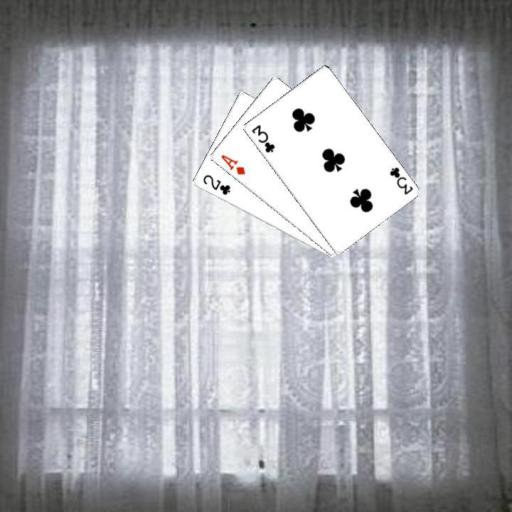2C: (199, 172, 232, 197)
3C: (386, 164, 415, 196), (248, 122, 276, 154)
AD: (218, 152, 247, 177)
